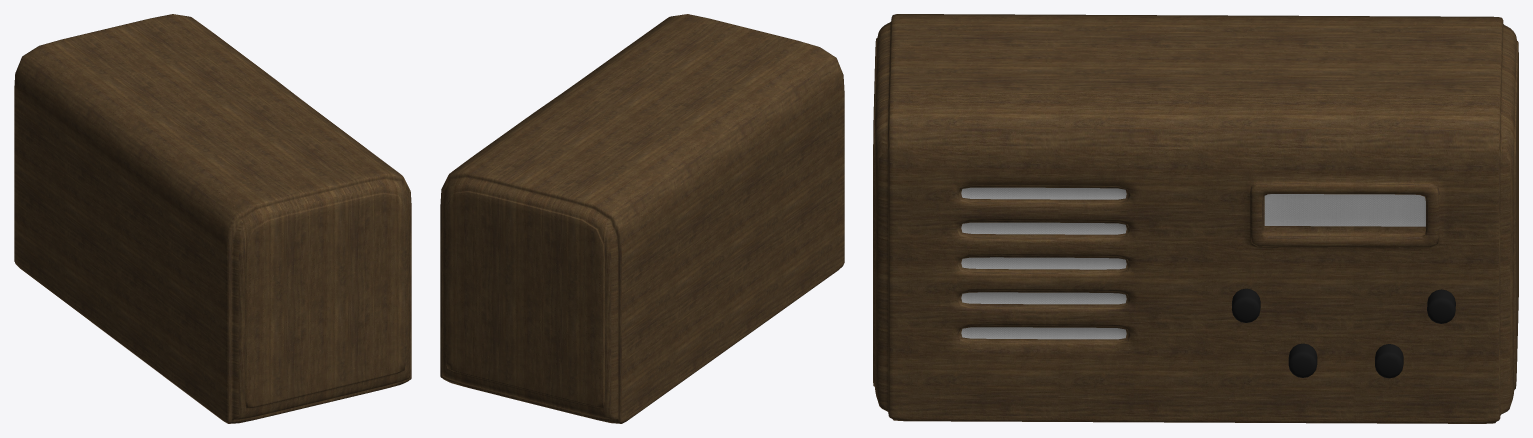
The model's file is Radio.glb.
The picture shows the model from 3 angles, left to right: view 1: azimuth 30°, elevation 25°; view 2: azimuth 150°, elevation 25°; view 3: azimuth 270°, elevation 25°; orthographic projection. The views are drawn at different scales.
Visible parts, largest first — view 1: RadioBody; view 2: RadioBody; view 3: RadioBody, Knob.002, Knob.003, Knob.004, Knob.001.
Part boxes in pixels (x1=…): RadioBody: x1=14, y1=14, x2=411, y2=423; RadioBody: x1=440, y1=14, x2=844, y2=423; RadioBody: x1=873, y1=14, x2=1518, y2=423; Knob.002: x1=1288, y1=343, x2=1317, y2=377; Knob.003: x1=1375, y1=344, x2=1403, y2=378; Knob.004: x1=1427, y1=289, x2=1455, y2=323; Knob.001: x1=1232, y1=288, x2=1260, y2=322.
Bounding box in the file's own units: 0.3229 × 0.3276 × 0.6367.
3 materials, 2 textured.
